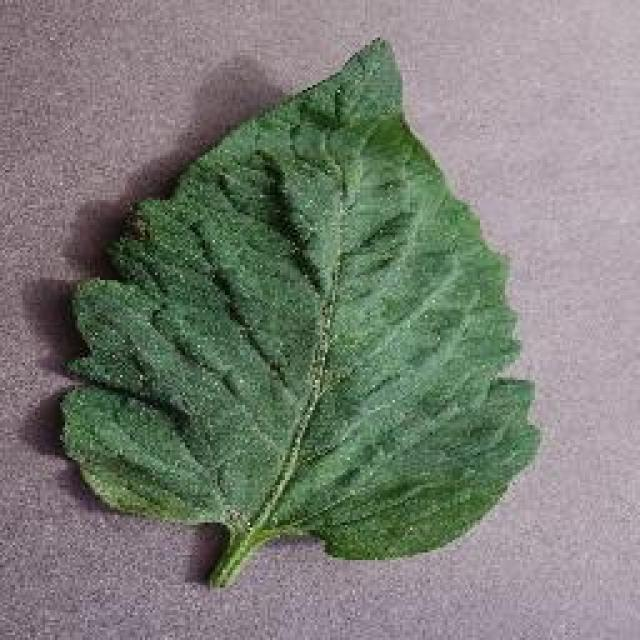Tomato___Target_Spot: (62, 40, 538, 585)
